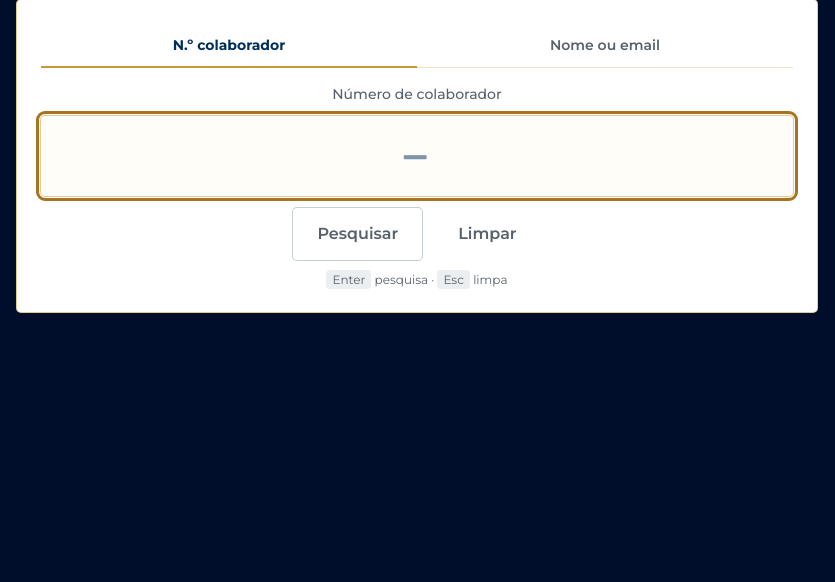
Test: ecrã de distribuição › um email pesquisado cai no campo Email, não no campo Nome
This screenshot has width=835, height=582.
Click the tab "Nome ou email" at coordinates (605, 46), box [417,24,793,68]
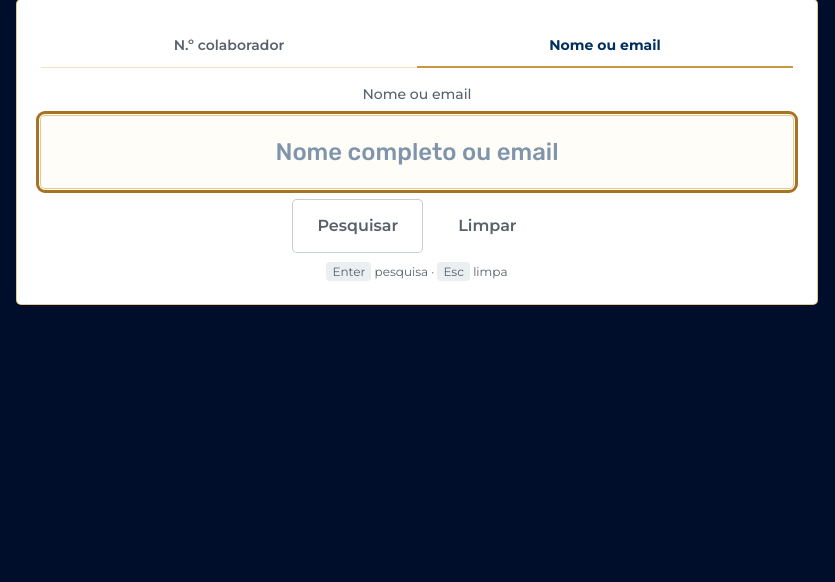
Type keys "daniela@caetano.pt{Enter}"
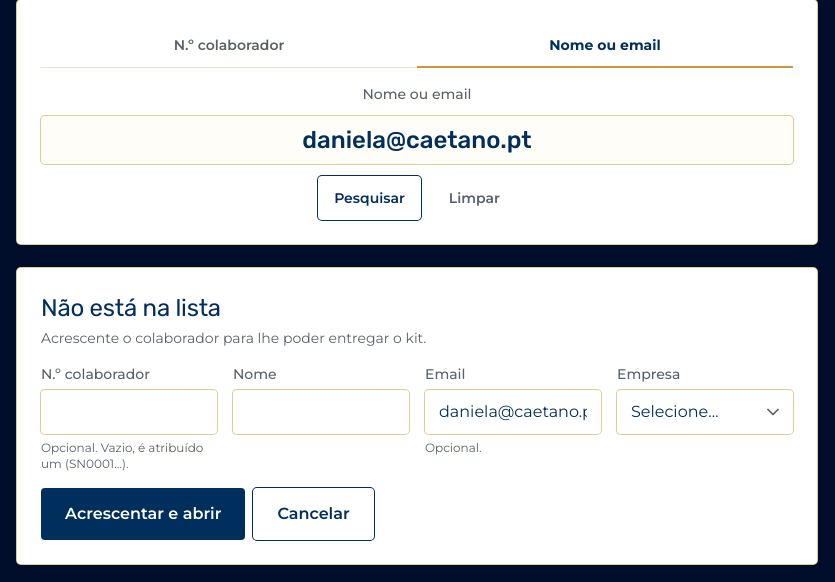
Expected: the heading "Não está na lista" is shown, [41,294,221,322]
Expected: the field labelled "Email" holds "daniela@caetano.pt", [425,390,601,434]
Expected: the field labelled "Nome" is empty, [233,390,409,434]
